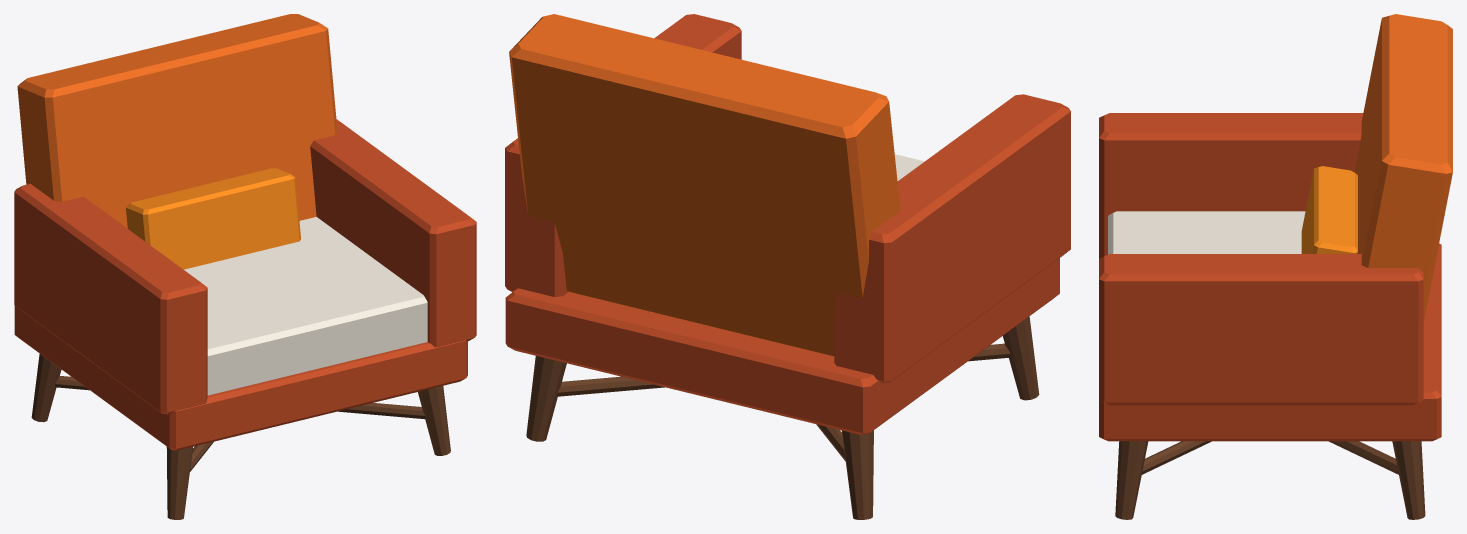
File: CozyArmchair.obj
3 renders of one model, left to right at view 1: azimuth 30°, elevation 25°; view 2: azimuth 150°, elevation 25°; view 3: azimuth 270°, elevation 25°, orthographic. The views are drawn at different scales.
Parts seen in each view (by area): view 1: CozyArmchair_Fabric_Terracotta, CozyArmchair_Fabric_OrangeMain, CozyArmchair_Fabric_Cream, CozyArmchair_Accent_VibrantOrange, CozyArmchair_Wood_Walnut; view 2: CozyArmchair_Fabric_OrangeMain, CozyArmchair_Fabric_Terracotta, CozyArmchair_Wood_Walnut; view 3: CozyArmchair_Fabric_Terracotta, CozyArmchair_Fabric_OrangeMain, CozyArmchair_Fabric_Cream, CozyArmchair_Wood_Walnut, CozyArmchair_Accent_VibrantOrange.
Part boxes in pixels (x1,y1,x2,y2): CozyArmchair_Fabric_Terracotta: (14, 119, 476, 450); CozyArmchair_Fabric_OrangeMain: (17, 14, 337, 228); CozyArmchair_Fabric_Cream: (184, 217, 427, 395); CozyArmchair_Accent_VibrantOrange: (126, 168, 300, 269); CozyArmchair_Wood_Walnut: (31, 354, 450, 519); CozyArmchair_Fabric_OrangeMain: (509, 14, 900, 356); CozyArmchair_Fabric_Terracotta: (505, 14, 1070, 434); CozyArmchair_Wood_Walnut: (526, 316, 1039, 519); CozyArmchair_Fabric_Terracotta: (1099, 113, 1441, 441); CozyArmchair_Fabric_OrangeMain: (1354, 14, 1452, 321); CozyArmchair_Fabric_Cream: (1108, 211, 1305, 254); CozyArmchair_Wood_Walnut: (1115, 441, 1425, 519); CozyArmchair_Accent_VibrantOrange: (1301, 166, 1357, 253).
Size of the model in its own units: 0.87 by 0.8906 by 0.7849.
